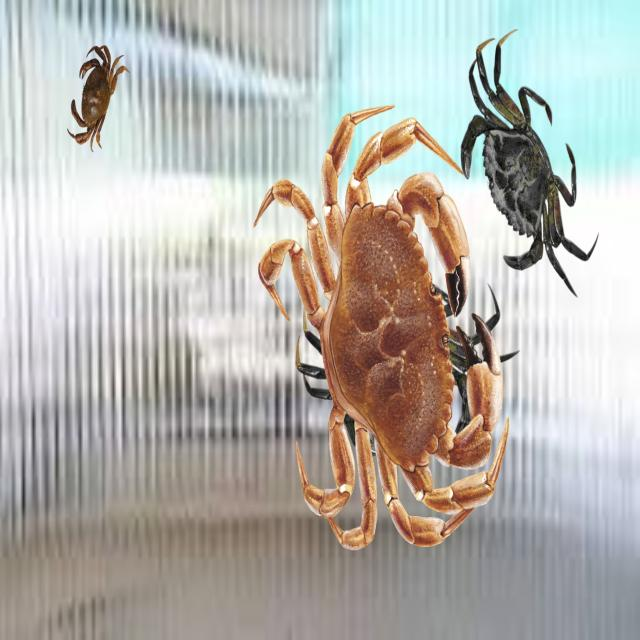European_Green_Crab: (427, 21, 617, 320)
